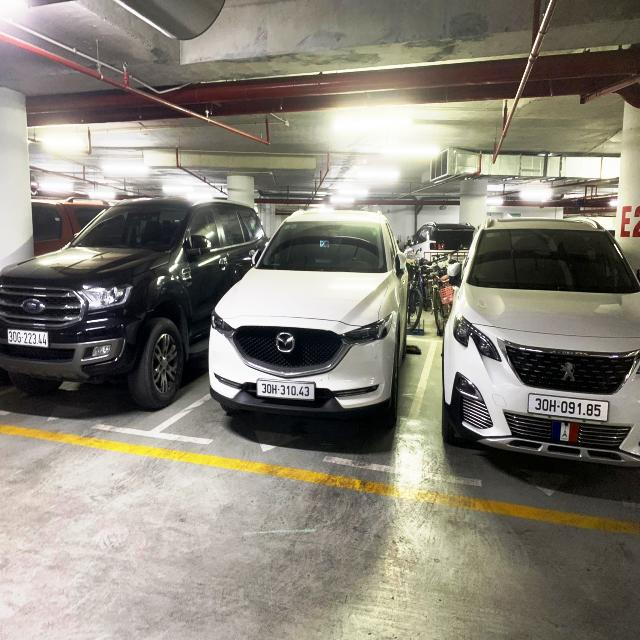license_plate: (529, 393, 610, 423), (258, 379, 317, 401), (8, 331, 49, 348)
